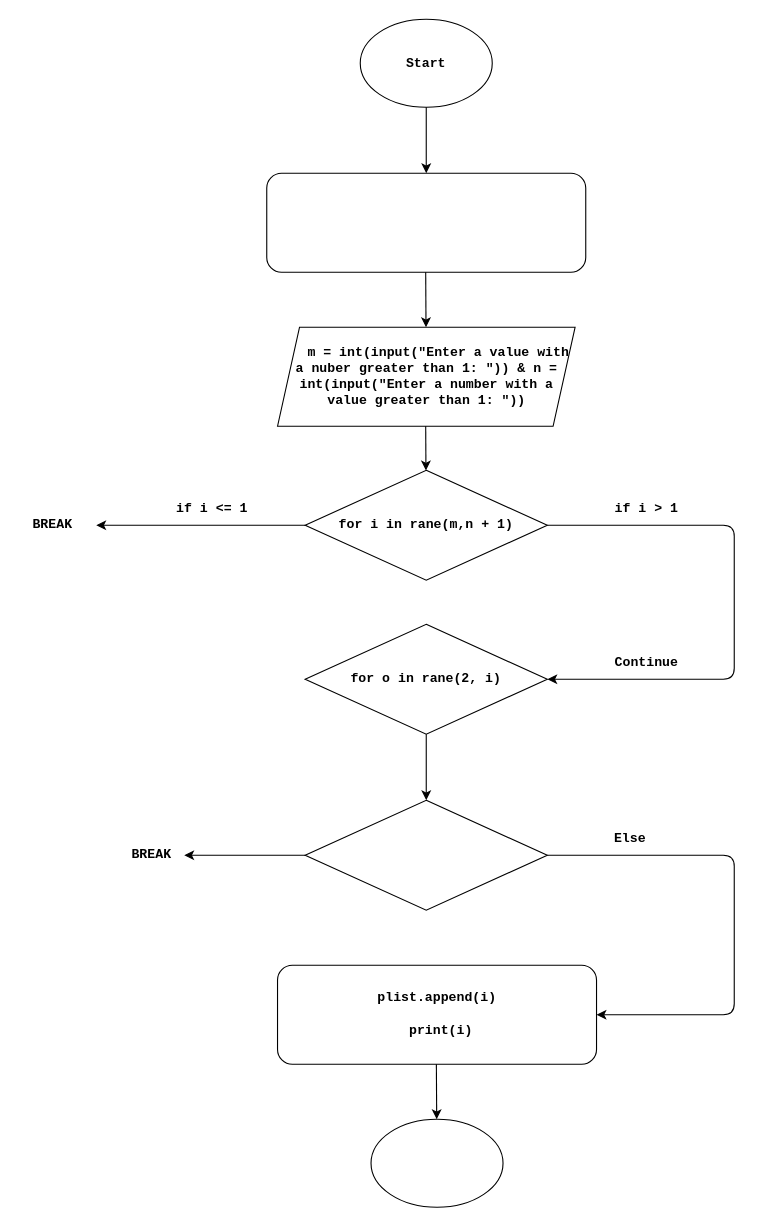
This 762x1227 diagram has some shape labels left out. The box of each missing label's shape, as (x1, y1, x2, y2) in pixels:
Ask the users to input two seperate values greater than 1.: (266, 172, 586, 272)
End: (370, 1118, 503, 1207)
if i % o == 0: (304, 799, 547, 910)
